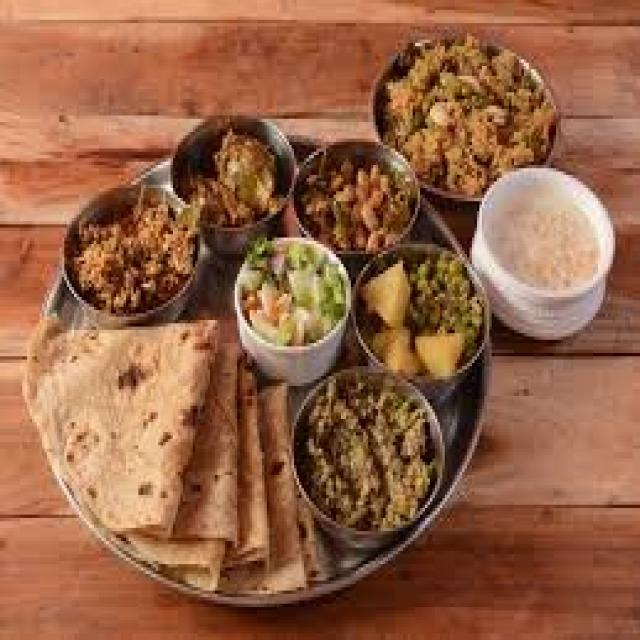papad: (37, 307, 224, 522)
rice: (288, 365, 454, 549), (384, 33, 543, 196), (354, 234, 485, 390), (63, 180, 201, 326), (294, 143, 425, 258)
sambar-rasam: (474, 161, 615, 312)
